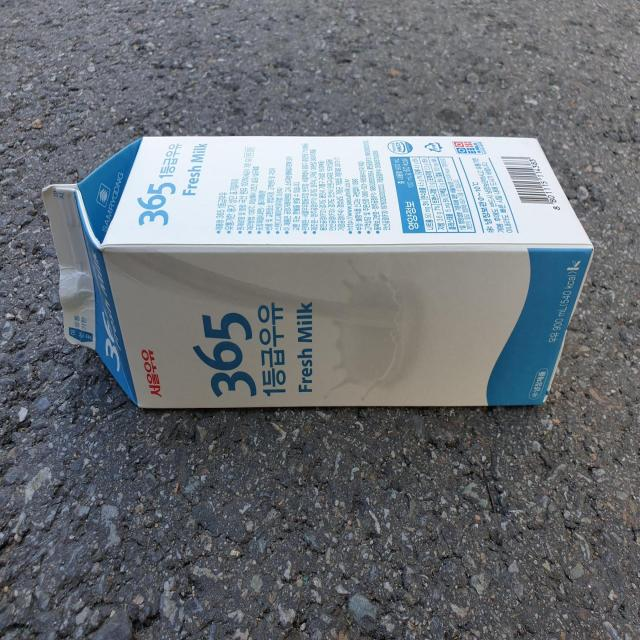paperpack: (42, 136, 594, 408)
